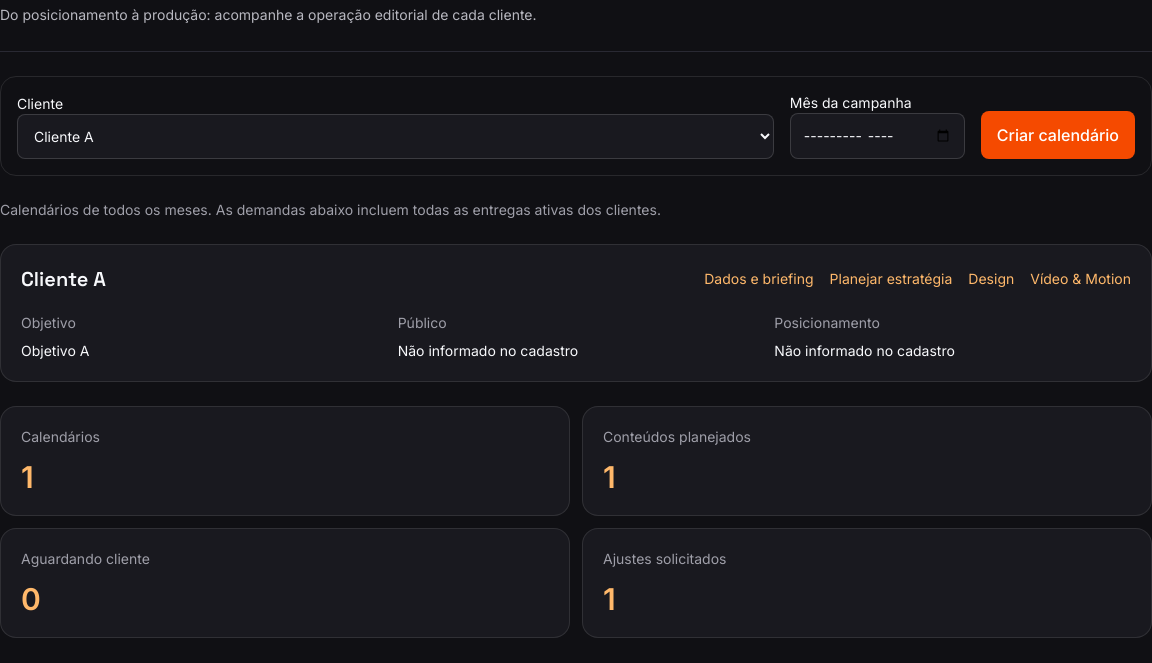
Test: Social Media operations › connects selected client to its campaign and clears old context when switching
This screenshot has width=1152, height=663.
Expected: the text "Objetivo A" is shown, [21,342,89,359]
Step 1. Select "Cliente B" in the dropdown named "Cliente da operação" → (395, 136), box [17,114,774,159]
(page scrolled)
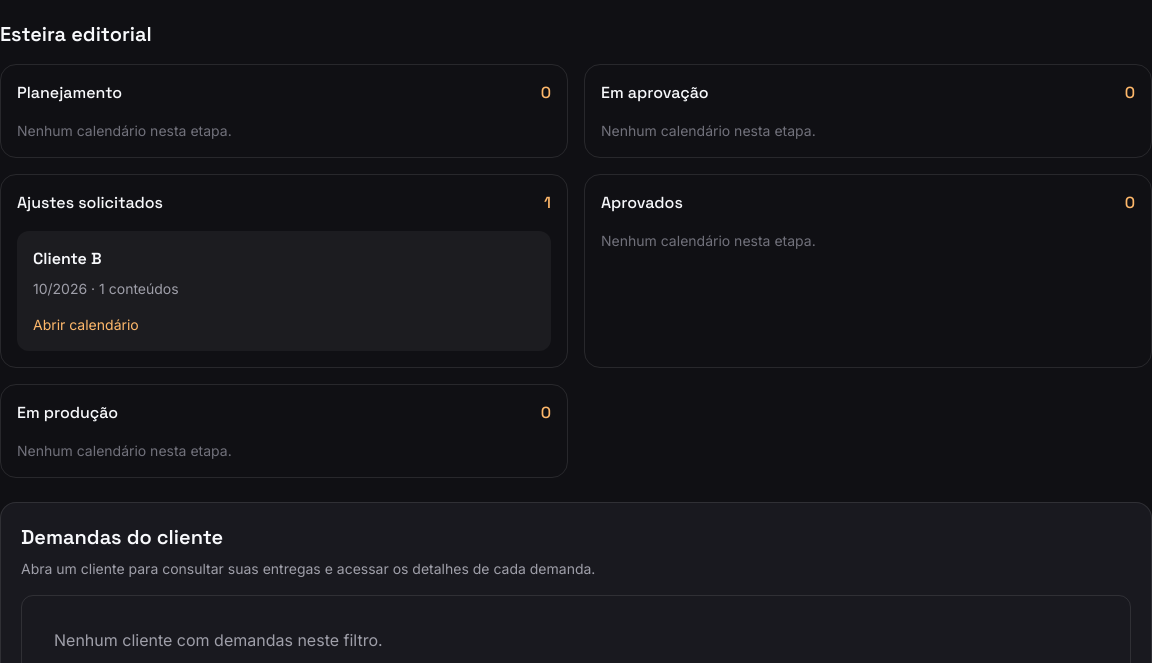
Now the text "Objetivo A" is gone
